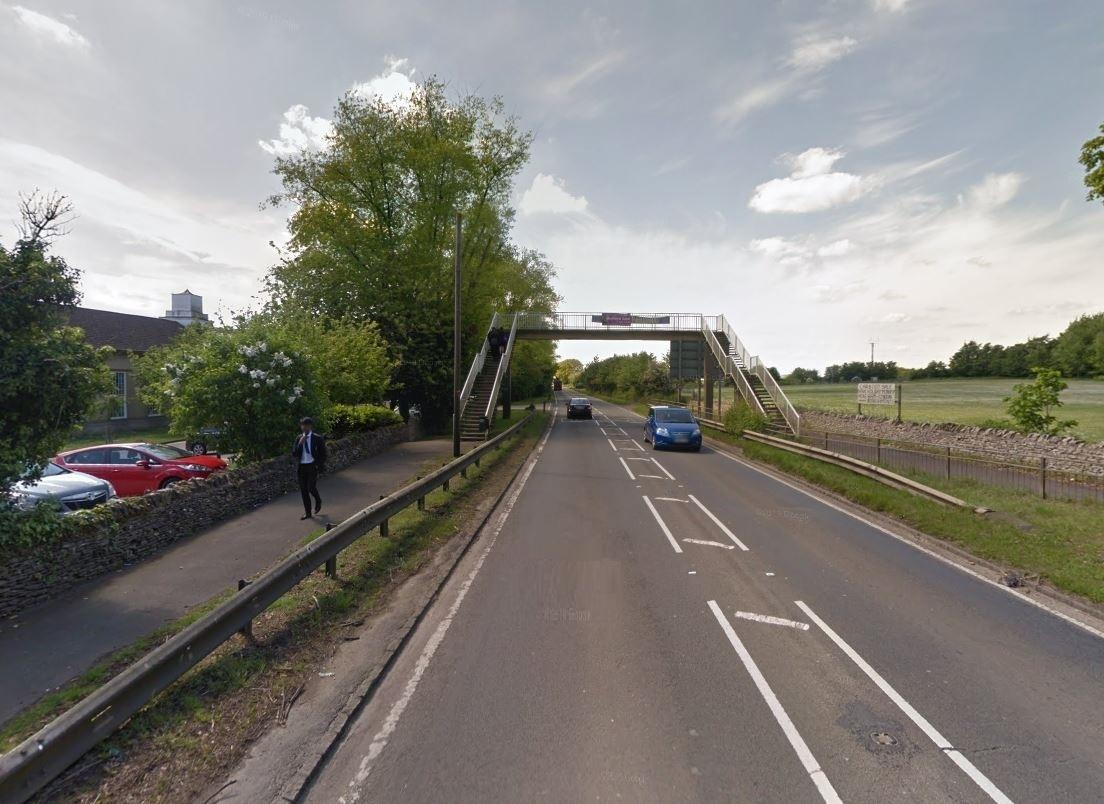bridge: (489, 306, 731, 336)
